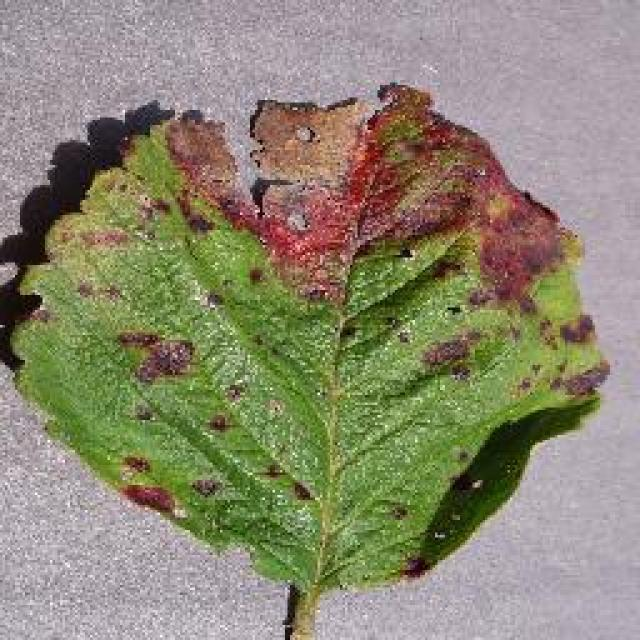Strawberry leaf scorch: (116, 117, 516, 398)
